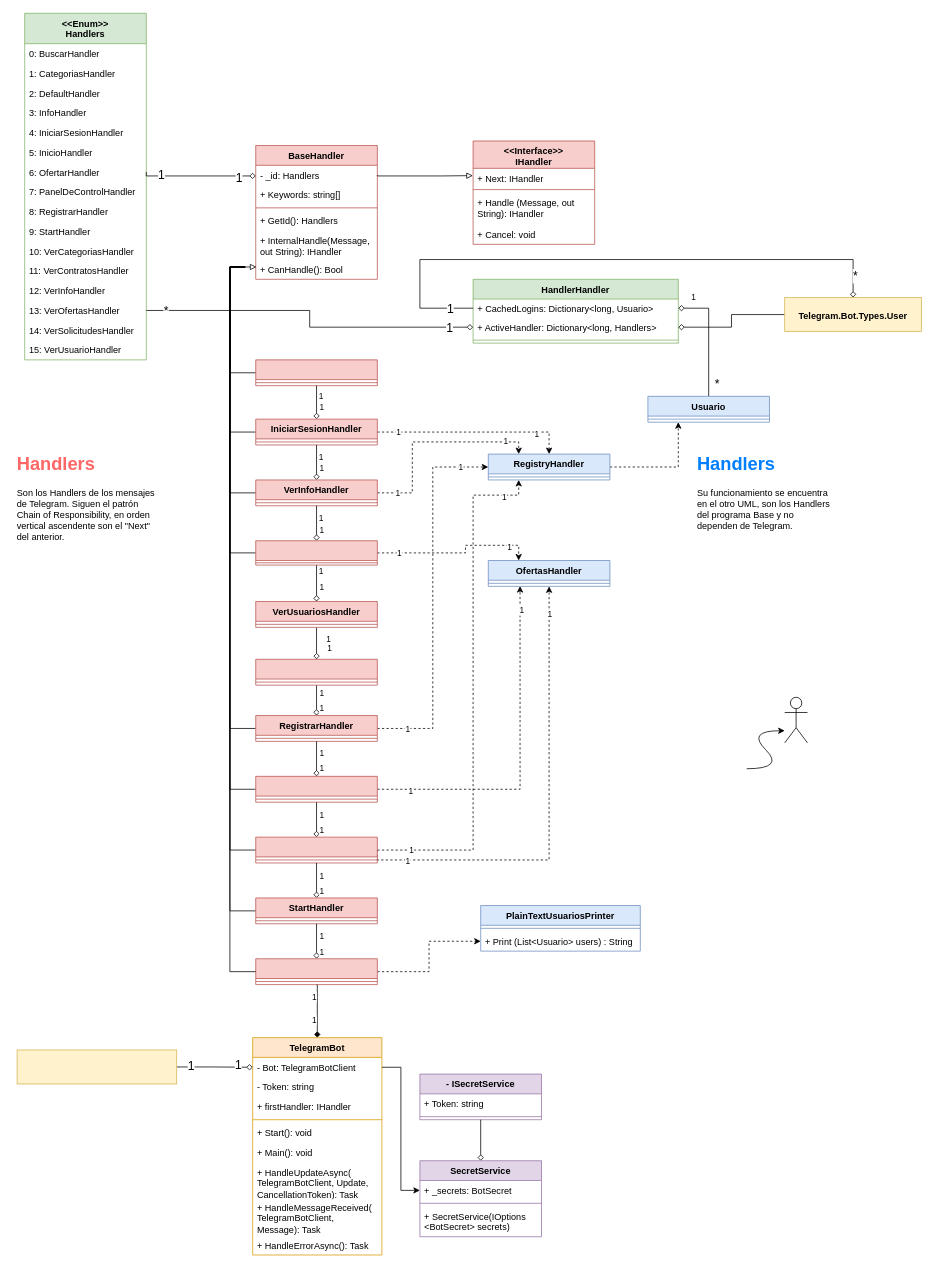
The diagram is 935 pixels wide and 1271 high, and some of its shapes have lost their labels. Here are the shapes that lost their labels. From the top down, the centre of each, then its label:
At (x=316, y=372): "DefaultHandler".
At (x=316, y=552): "BuscarHandler".
At (x=316, y=672): "OfertarHandler".
At (x=796, y=720): "Ihojan".
At (x=316, y=789): "CategoriasHandler".
At (x=316, y=849): "PanelDeControlHandler".
At (x=316, y=971): "InfoHandler".
At (x=96, y=1066): "Telegram.Bot.TelegramBotClient".
